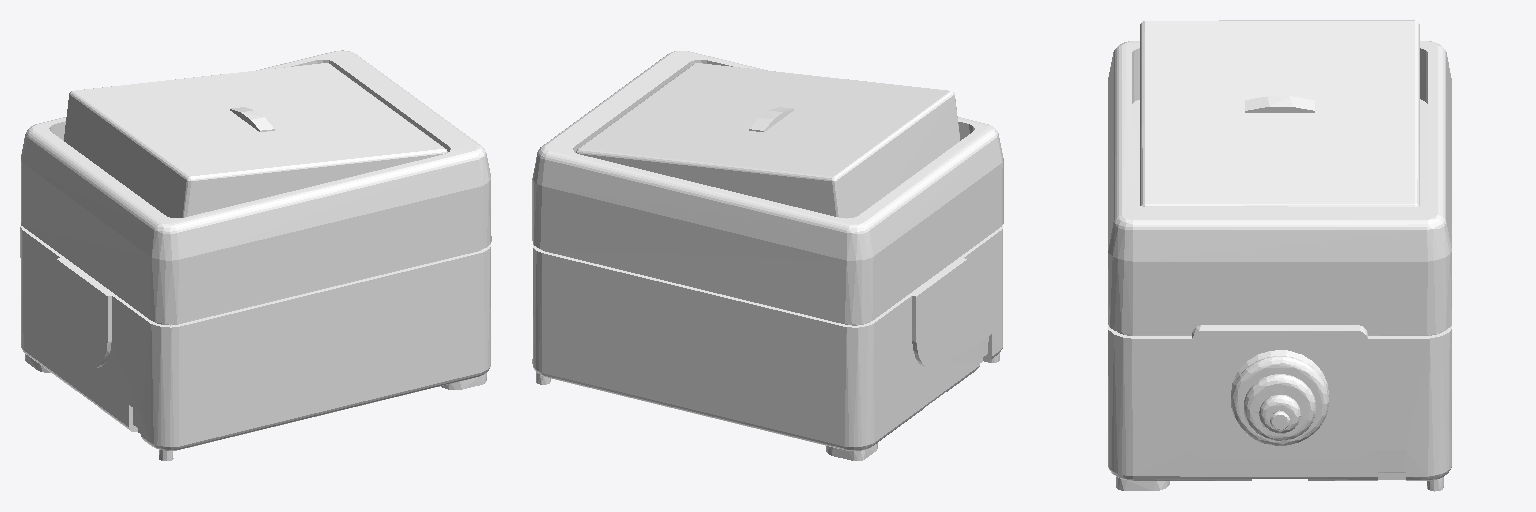
URDF robot description (obj_000026):
<?xml version="1.0" ?>
<robot name="obj_000026">
   <link name="base_link">
      <visual>
         <geometry>
            <mesh filename="package://agimus_demo_07_tiago_pro_pick_and_drop/urdf/obj_26.obj" scale="1 1 1"/>
         </geometry>
         <material name="tless_white">
            <color rgba="1.0 1.0 1.0 1.0"/>
         </material>
      </visual>
      <collision>
         <geometry>
            <mesh filename="package://agimus_demo_07_tiago_pro_pick_and_drop/urdf/obj_26.obj" scale="1 1 1"/>
         </geometry>
      </collision>
      <inertial>
         <origin rpy="0 0 0" xyz="0.0 0.0 0.0"/>
         <mass value="0.1"/>
         <inertia ixx="1" ixy="0" ixz="0" iyy="1" iyz="0" izz="1"/>
      </inertial>
   </link>
</robot>

--- Facts derived from the render (not from the file) ---
Views: 3 orthographic renders of the robot side by side, from view 1: azimuth 30°, elevation 25°; view 2: azimuth 150°, elevation 25°; view 3: azimuth 270°, elevation 25°.
Model obj_000026 with 1 links and 0 joints (none), rooted at base_link, posed all joints at 0.
Links seen in each view (by area): view 1: base_link; view 2: base_link; view 3: base_link.
Boxes of the visible links, bbox=[...] form: base_link: bbox=[20, 50, 491, 460]; base_link: bbox=[532, 51, 1003, 460]; base_link: bbox=[1108, 20, 1451, 491].
Size in the robot's own frame: 0.096 by 0.0614 by 0.0608 metres.
1 mesh visuals loaded from 1 distinct referenced files (1 OBJ).
